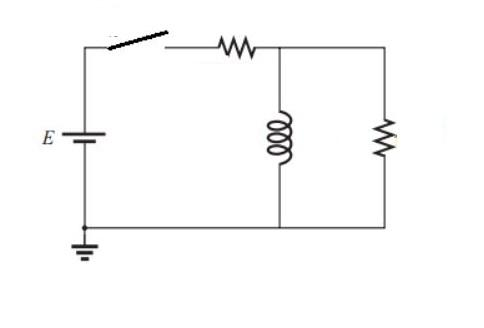resistor: (356, 92, 409, 169), (203, 18, 268, 68)
